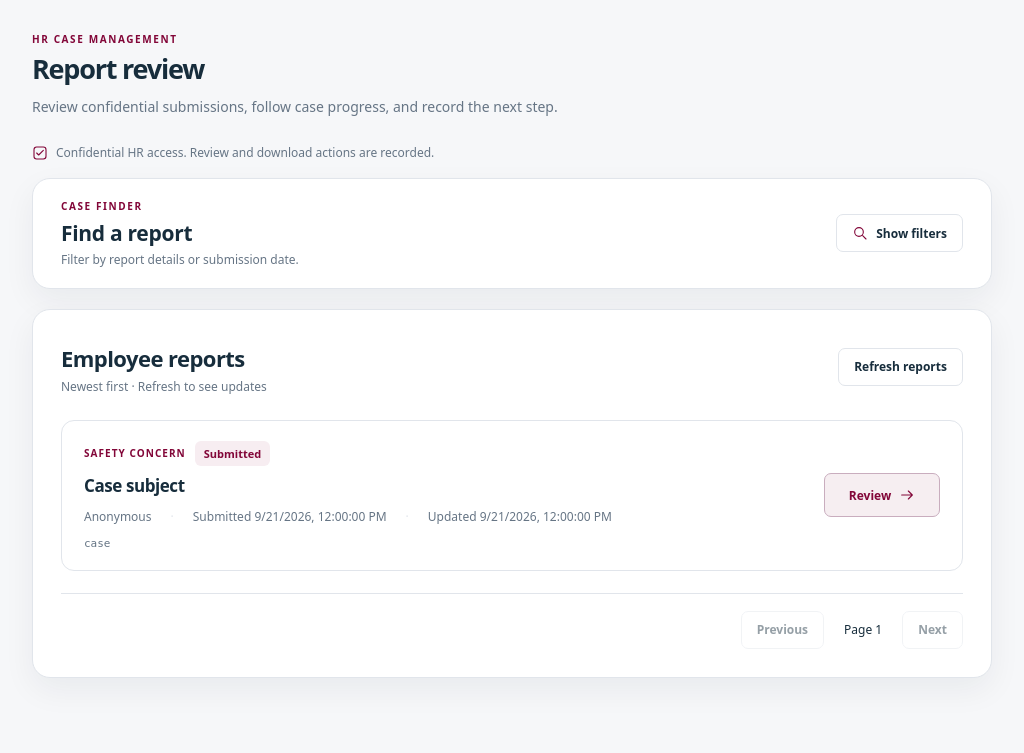
Test: saves internal notes and renders status, administrator, and time in the tracker
This screenshot has width=1024, height=753.
Click the button "Review". click: click(882, 495)
box: [824, 473, 940, 517]
(page scrolled)
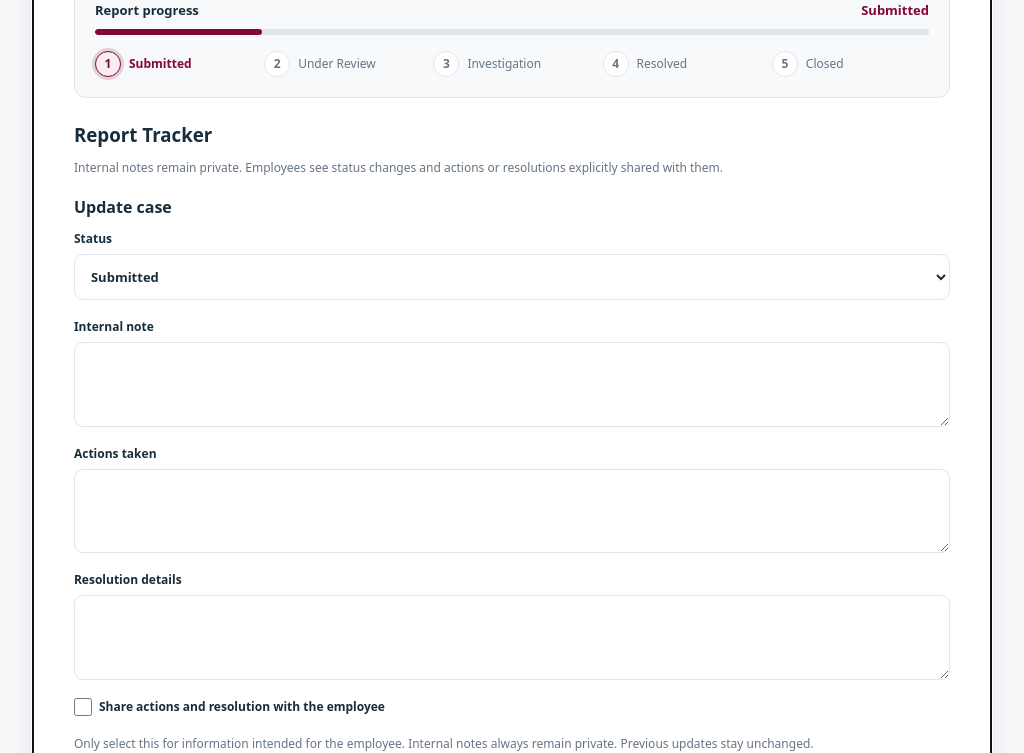
Check: the heading "Report Tracker" is shown, box [74, 122, 212, 147]
Type "Confidential interview" into the text box labelled "Internal note". click: (512, 384)
box: [74, 342, 950, 427]
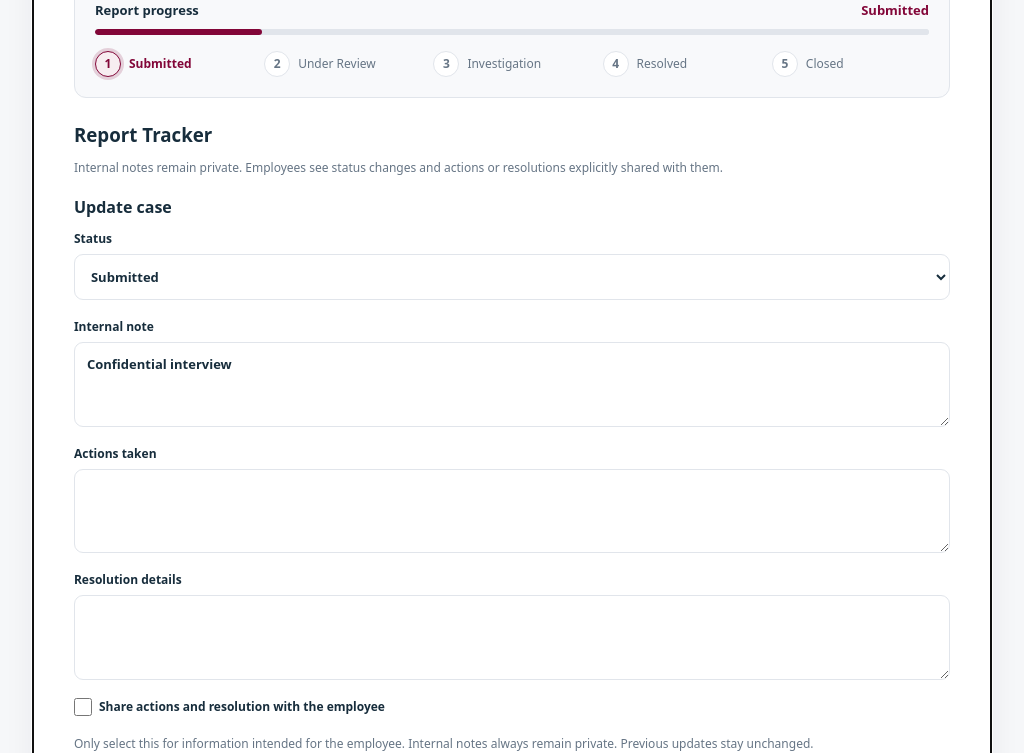
Select "Under Review" in the dropdown labelled "Status". click: (512, 277)
box: [74, 254, 950, 300]
(page scrolled)
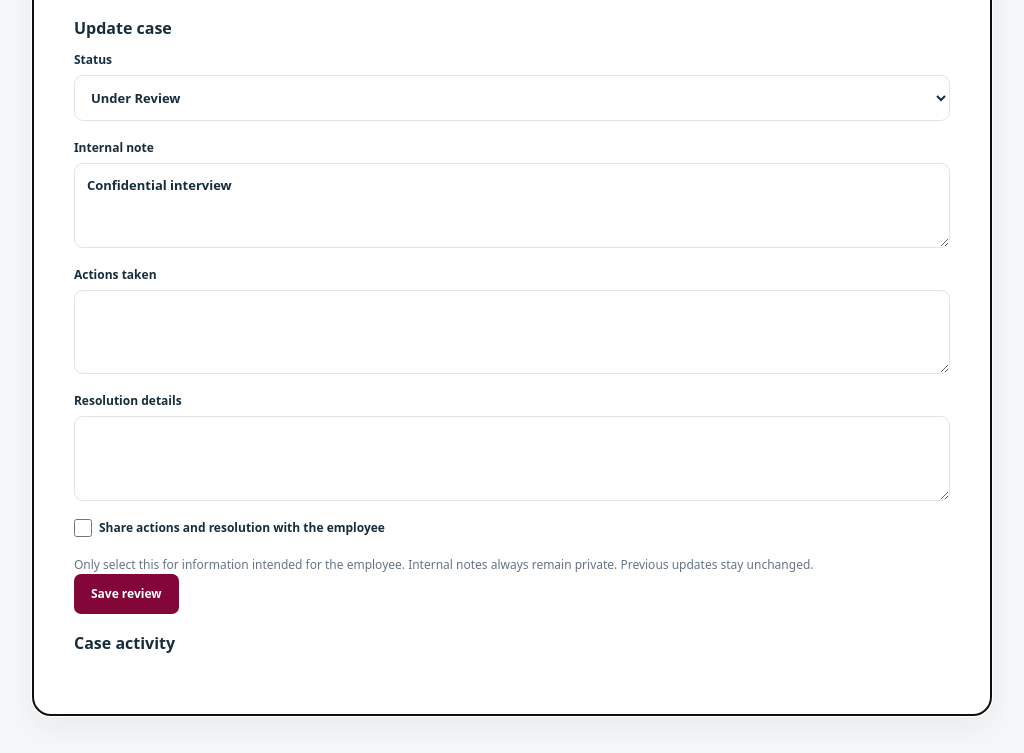
Click the button "Save review". click: click(126, 594)
box: [74, 574, 179, 614]
(page scrolled)
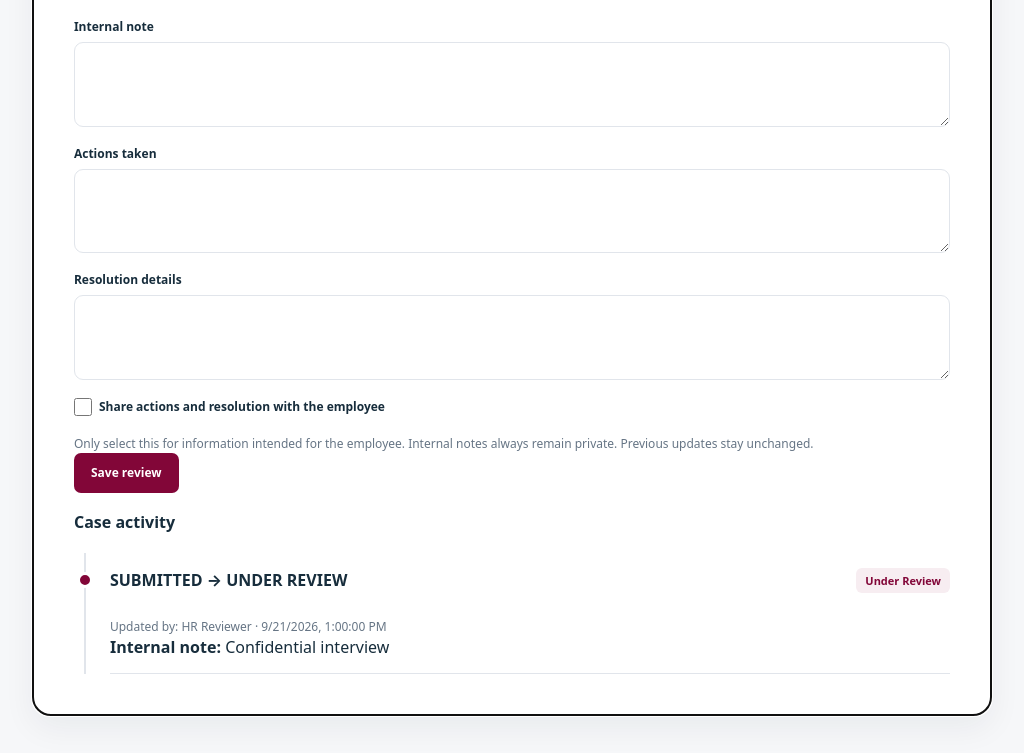
Check: the text "Updated by: HR Reviewer · 9/21/2026, 1:00:00 PM" is shown, box [110, 618, 387, 635]
Check: the text "Confidential interview" is shown, box [225, 636, 389, 658]
